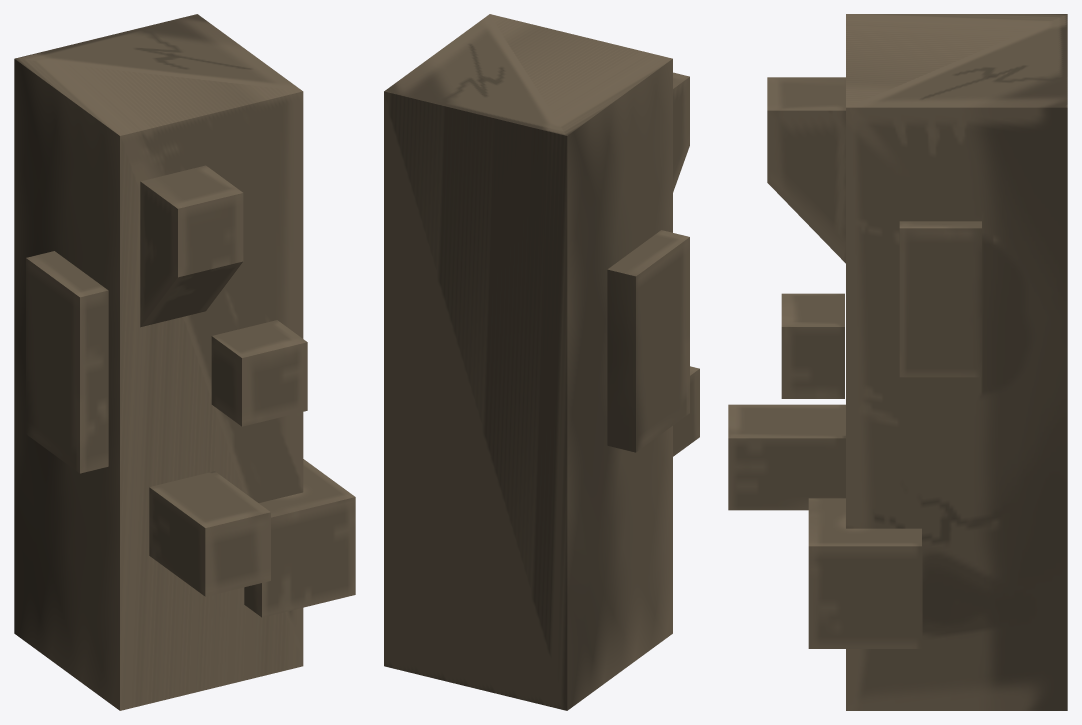
The model's file is Wall_1x3.obj.
The picture shows the model from 3 angles, left to right: view 1: azimuth 30°, elevation 25°; view 2: azimuth 150°, elevation 25°; view 3: azimuth 270°, elevation 25°; orthographic projection. The views are drawn at different scales.
Visible parts, largest first — view 1: Cube; view 2: Cube; view 3: Cube.
Boxes of the visible parts, left/top/right/bottom form: Cube: left=14, top=14, right=355, bottom=710; Cube: left=384, top=14, right=699, bottom=710; Cube: left=728, top=14, right=1067, bottom=710.
Bounding box in the file's own units: 2.69 × 6 × 3.06.
